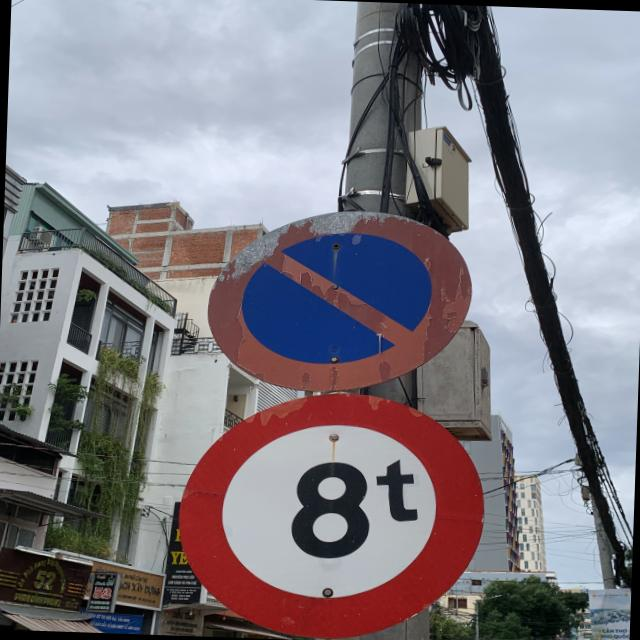Cam_Dau_Xe: (203, 207, 475, 393)
